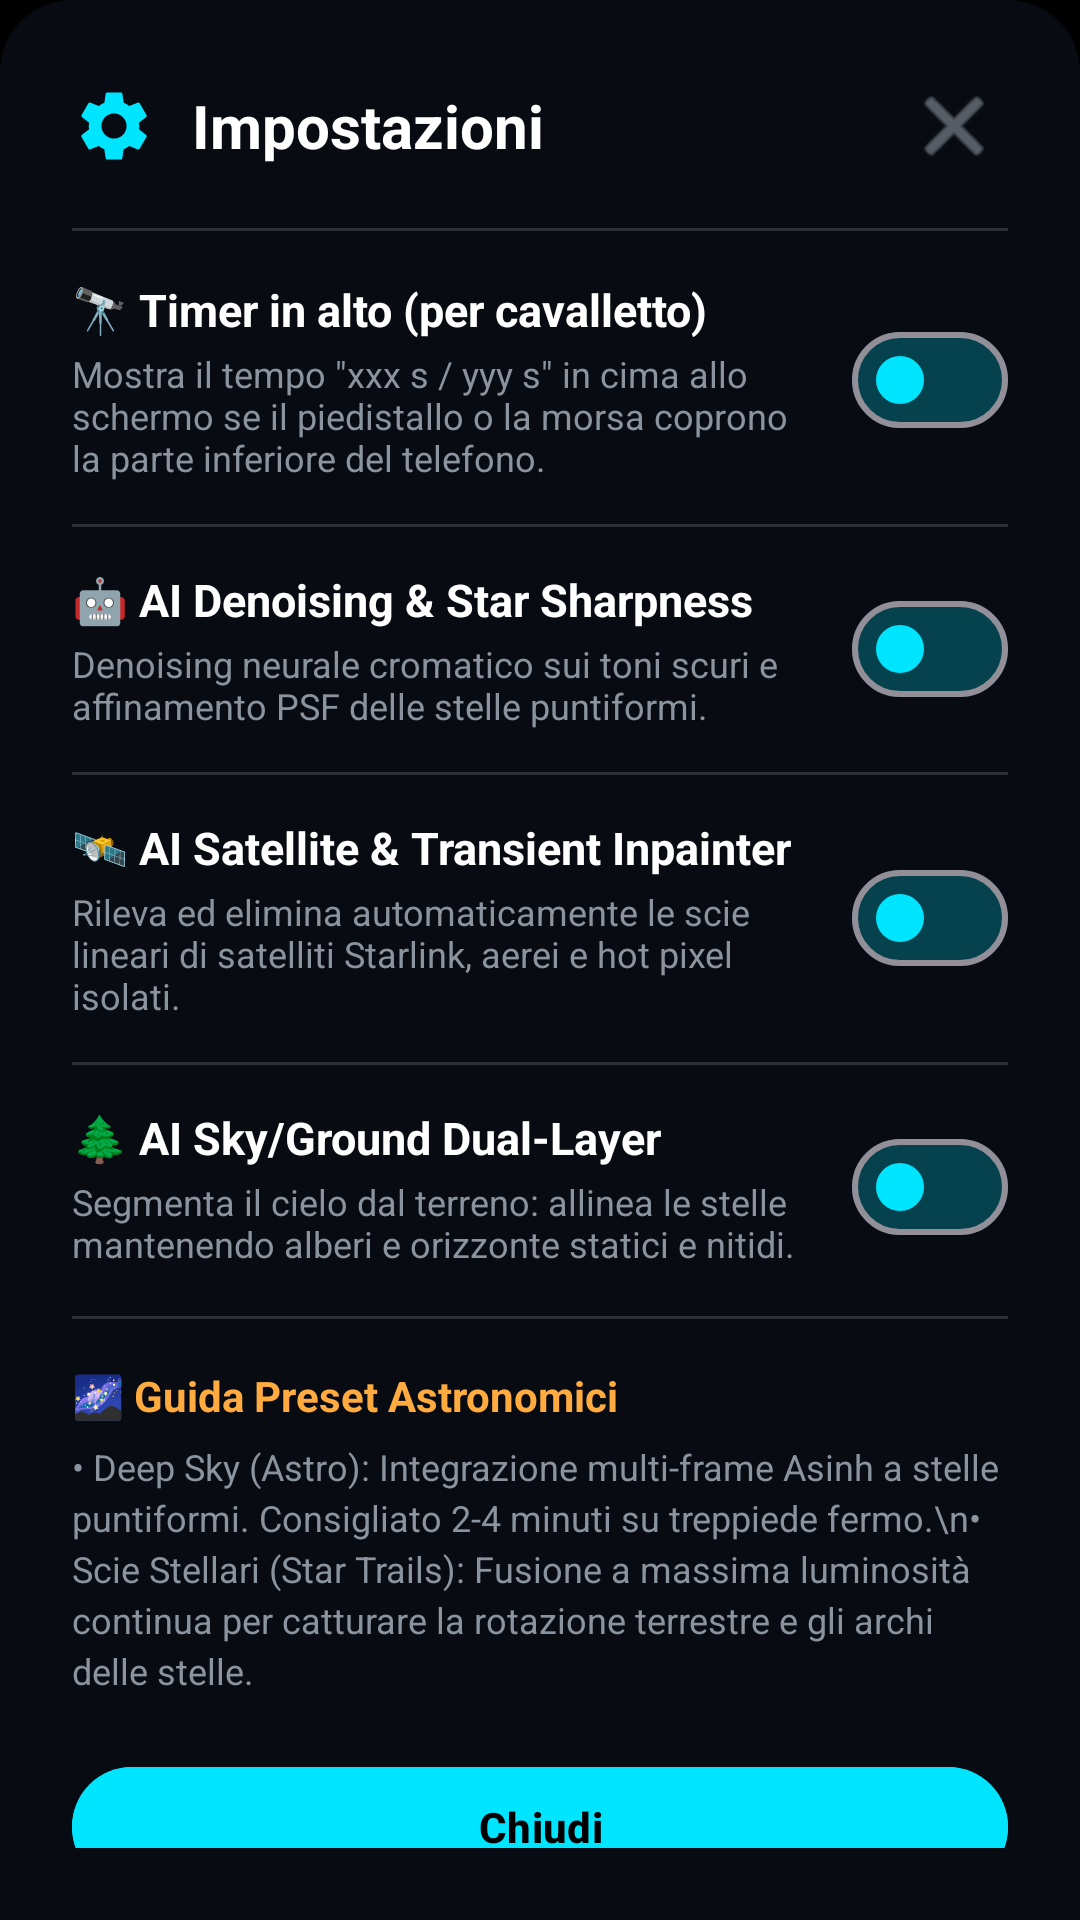

Named icons in this screenshot (1080x1920) and their bounding boxes, (x1, y1, x2, y2):
close clear cancel: (924, 96, 984, 156)
settings: (81, 92, 147, 160)
